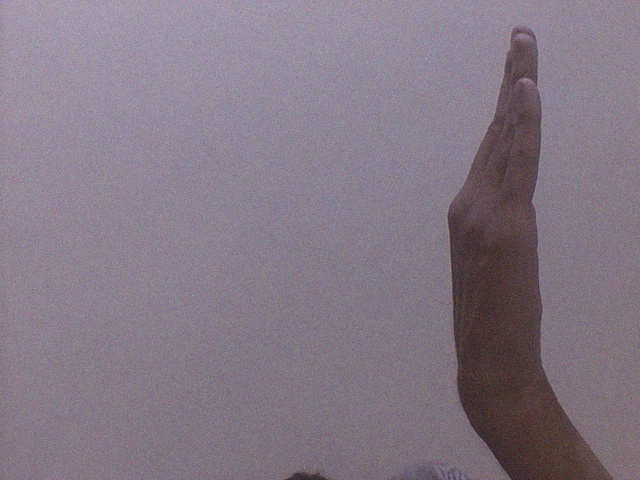hand: (440, 22, 550, 395)
